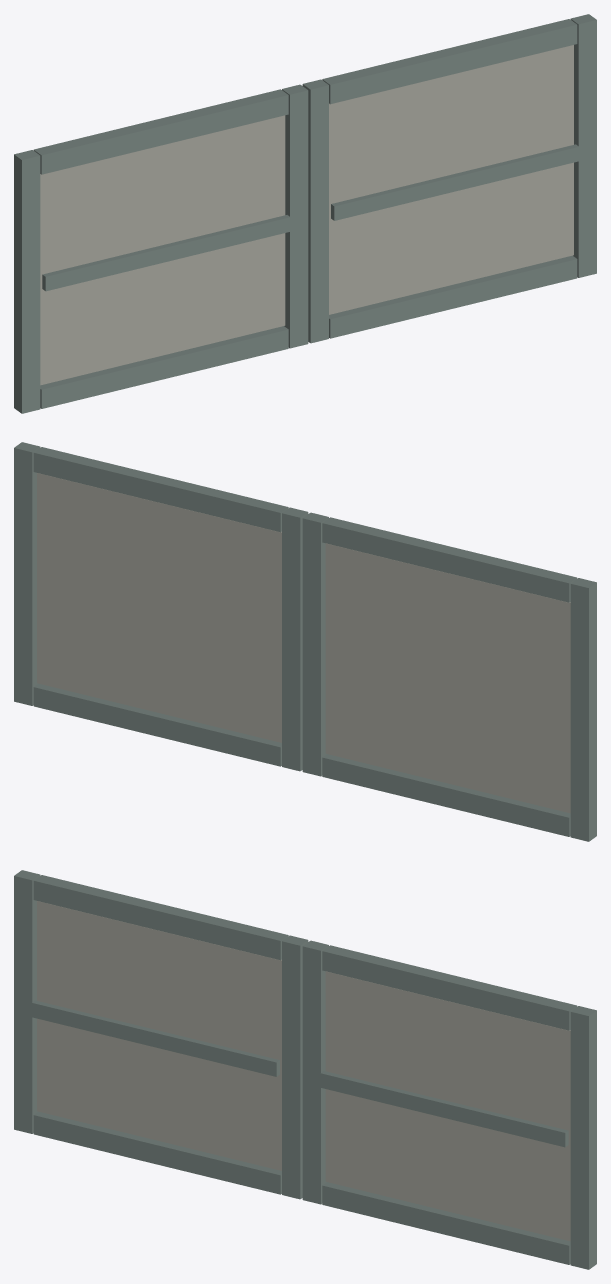
Rendered from SM_PuertaVia_v1_ChapaOndulada_e0_Sano_LOD1.fbx.
3 views of the same model, one above another, from view 1: azimuth 30°, elevation 25°; view 2: azimuth 150°, elevation 25°; view 3: azimuth 330°, elevation 25° (orthographic).
Parts seen in each view (by area): view 1: Hoja_O, Hoja_E; view 2: Hoja_O, Hoja_E; view 3: Hoja_E, Hoja_O.
Boxes of the visible parts, left/top/right/bottom form: Hoja_O: left=14, top=84, right=308, bottom=413; Hoja_E: left=302, top=14, right=596, bottom=343; Hoja_O: left=302, top=512, right=596, bottom=841; Hoja_E: left=14, top=442, right=308, bottom=771; Hoja_E: left=302, top=940, right=596, bottom=1269; Hoja_O: left=14, top=870, right=308, bottom=1199.
Size of what is drawn, in the model's own units: 4.98 by 2.1 by 0.165.
